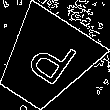P_SW: (15, 30, 77, 92)
